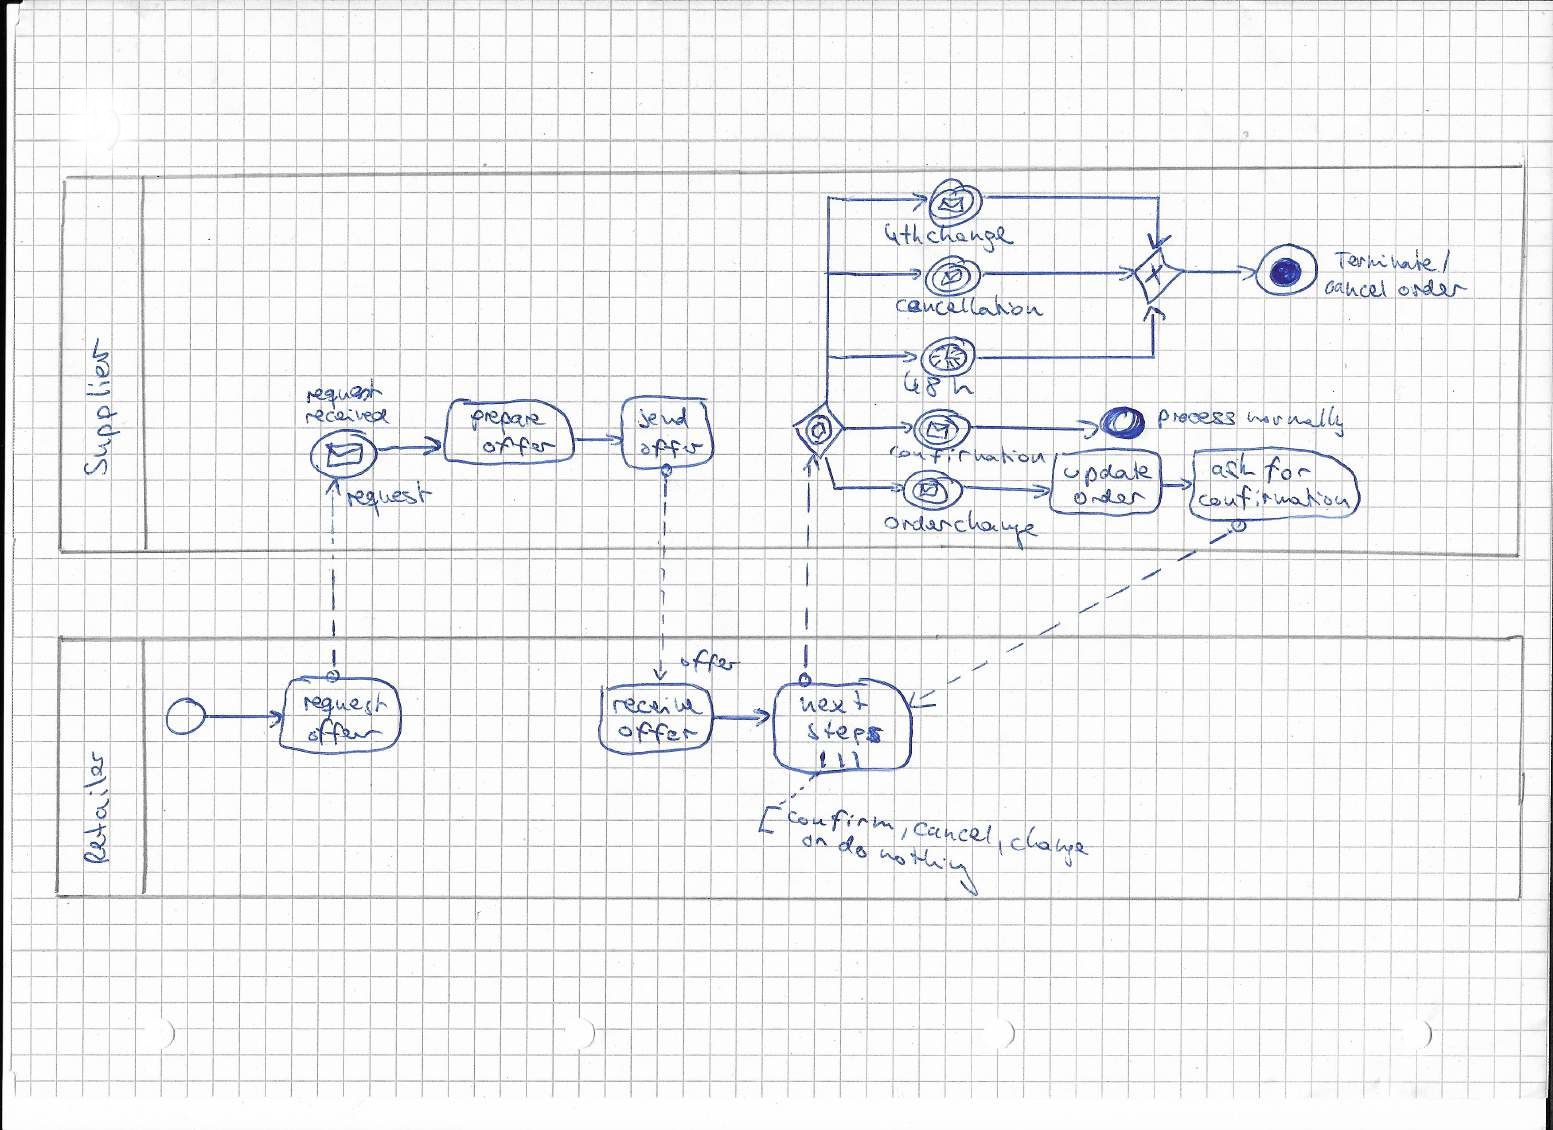48h: (896, 368, 977, 400)
4thchange: (881, 221, 1009, 252)
Order: (1071, 488, 1149, 508)
Retailer: (77, 751, 109, 865)
Supplier: (78, 339, 112, 476)
Terminate/: (1328, 247, 1455, 273)
affer: (633, 437, 703, 459)
ask: (1206, 456, 1256, 485)
cancel: (1318, 279, 1391, 301)
cancel,: (916, 818, 1004, 854)
cancellation: (892, 297, 1044, 322)
change: (1006, 822, 1091, 860)
confirm,: (780, 806, 912, 841)
confirmation: (1189, 488, 1355, 515), (881, 443, 1050, 466)
do: (837, 835, 869, 859)
for: (1258, 457, 1311, 486)
next: (799, 687, 877, 718)
normally: (1246, 403, 1348, 432)
nothing: (877, 847, 981, 894)
offer: (295, 714, 383, 746), (615, 721, 695, 745), (678, 646, 736, 678), (479, 437, 555, 458)
or: (801, 835, 831, 851)
order: (1393, 279, 1464, 301)
orderchange: (880, 513, 1037, 541)
prepare: (465, 406, 544, 432)
process: (1156, 405, 1237, 427)
receive: (613, 689, 699, 724)
received: (300, 406, 389, 427)
request: (293, 692, 385, 719), (346, 484, 430, 507), (301, 384, 382, 406)
send: (631, 406, 697, 432)
steps: (802, 721, 885, 746)
update: (1062, 462, 1151, 486)
